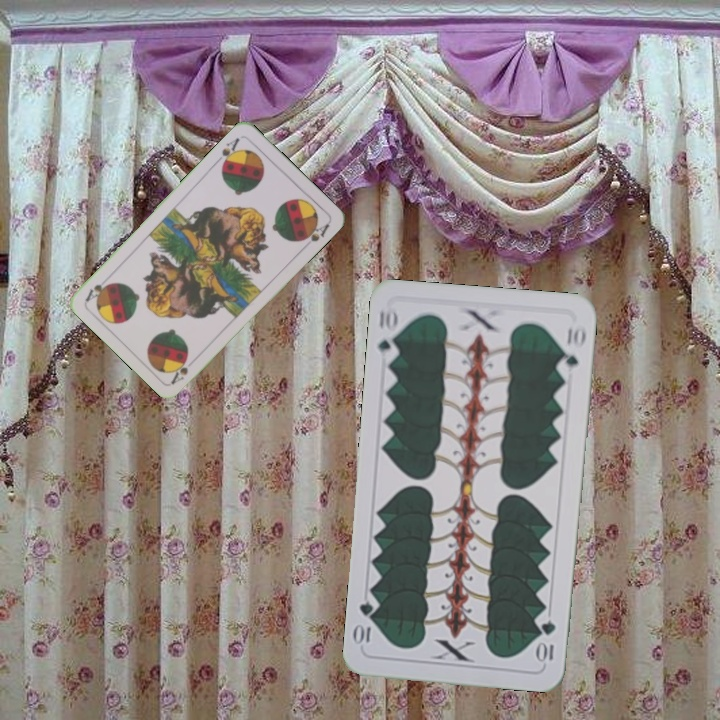G10: (374, 303, 401, 363), (535, 616, 558, 665)
SA: (212, 133, 243, 170), (167, 353, 200, 386)
